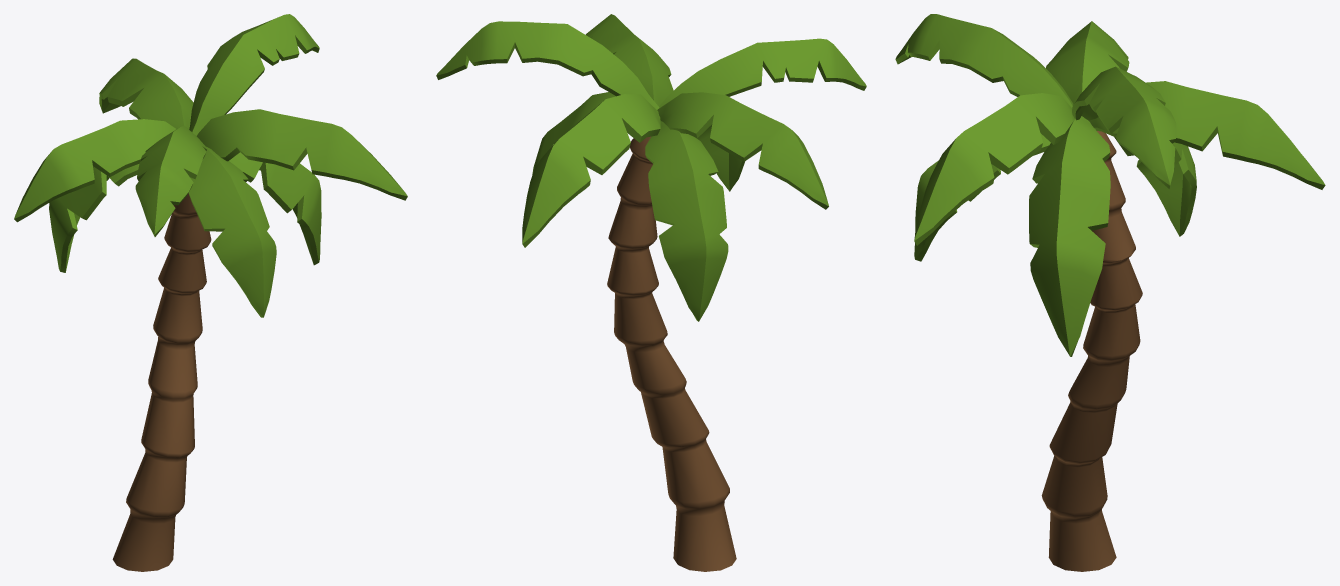
File: palm1.glb
3 renders of one model, left to right at view 1: azimuth 30°, elevation 25°; view 2: azimuth 150°, elevation 25°; view 3: azimuth 270°, elevation 25°, orthographic. The views are drawn at different scales.
Parts seen in each view (by area): view 1: Environment_PalmTree_1; view 2: Environment_PalmTree_1; view 3: Environment_PalmTree_1.
Part boxes in pixels (box(x1,y1,x2,y2)): Environment_PalmTree_1: box(14, 14, 407, 571); Environment_PalmTree_1: box(436, 14, 866, 571); Environment_PalmTree_1: box(895, 14, 1325, 571).
Size of the model in its own units: 2.61 by 3.59 by 2.52.
